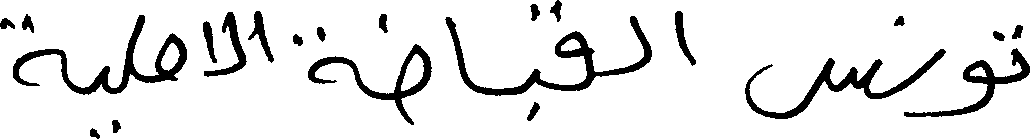ا: (444, 14, 473, 91), (672, 8, 694, 65), (253, 9, 274, 63)
ب: (526, 52, 542, 121)
ة: (0, 11, 67, 87), (289, 20, 359, 89)
ت: (992, 22, 1028, 83)
س: (743, 56, 881, 120)
ص: (152, 30, 187, 83)
ض: (375, 11, 431, 125)
ق: (531, 0, 594, 91)
ل: (121, 12, 146, 92), (627, 14, 653, 74)
لا: (203, 10, 246, 78)
ن: (894, 15, 946, 90)
و: (961, 29, 995, 114)
ي: (88, 64, 122, 137)
